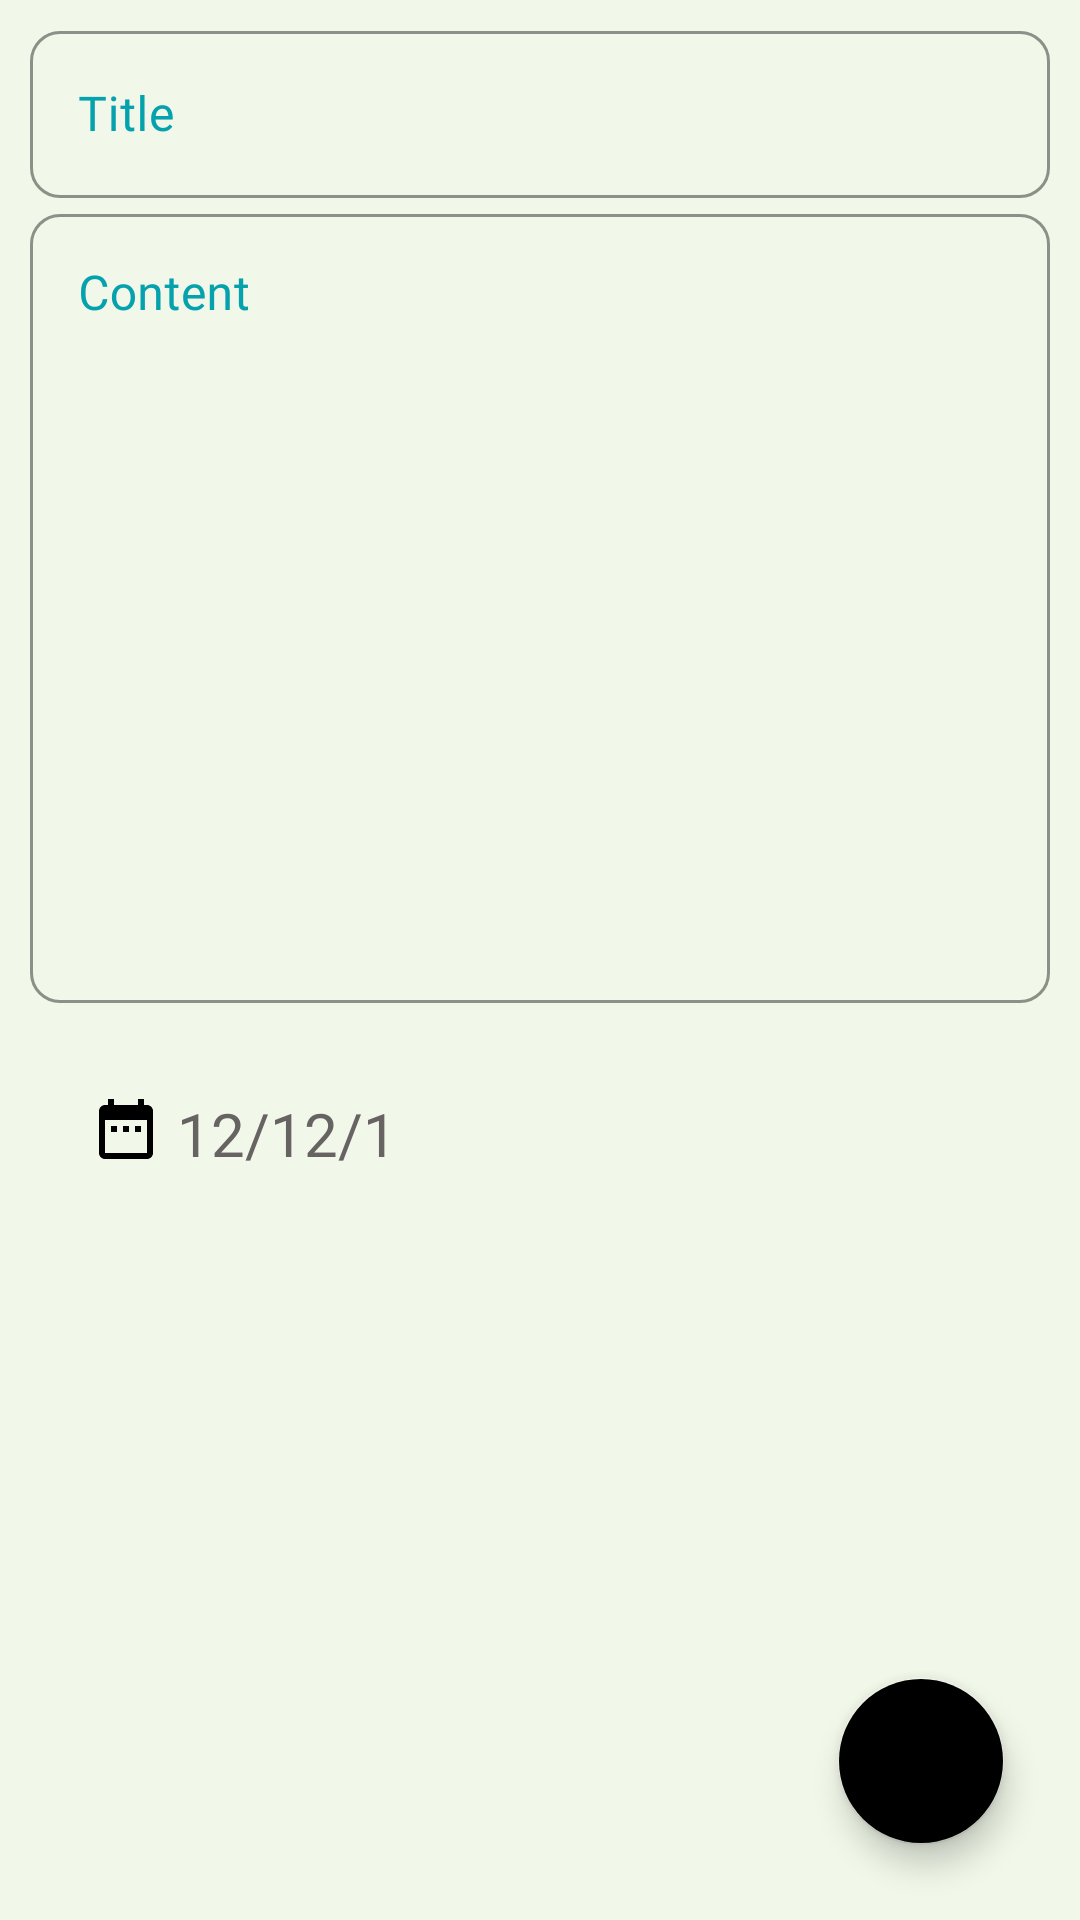

Named icons in this screenshot (1080*1920) and their bounding boxes, bbox=(x1, y1, x2, y2):
date range: bbox=(99, 1099, 153, 1159)
